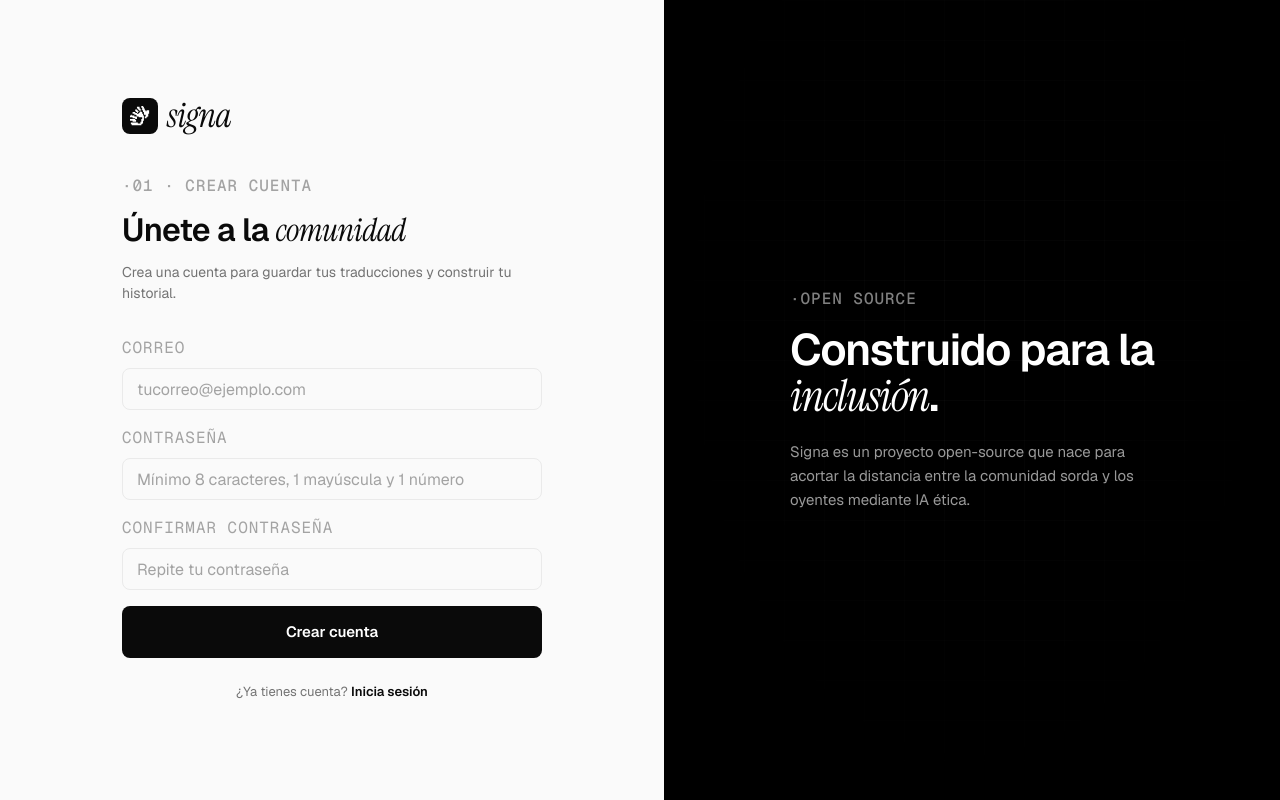
Test case: RegisterPage › shows error when passwords do not match
In the field labelled "Correo": (332, 389) [122,368,542,410], type "a@b.com"
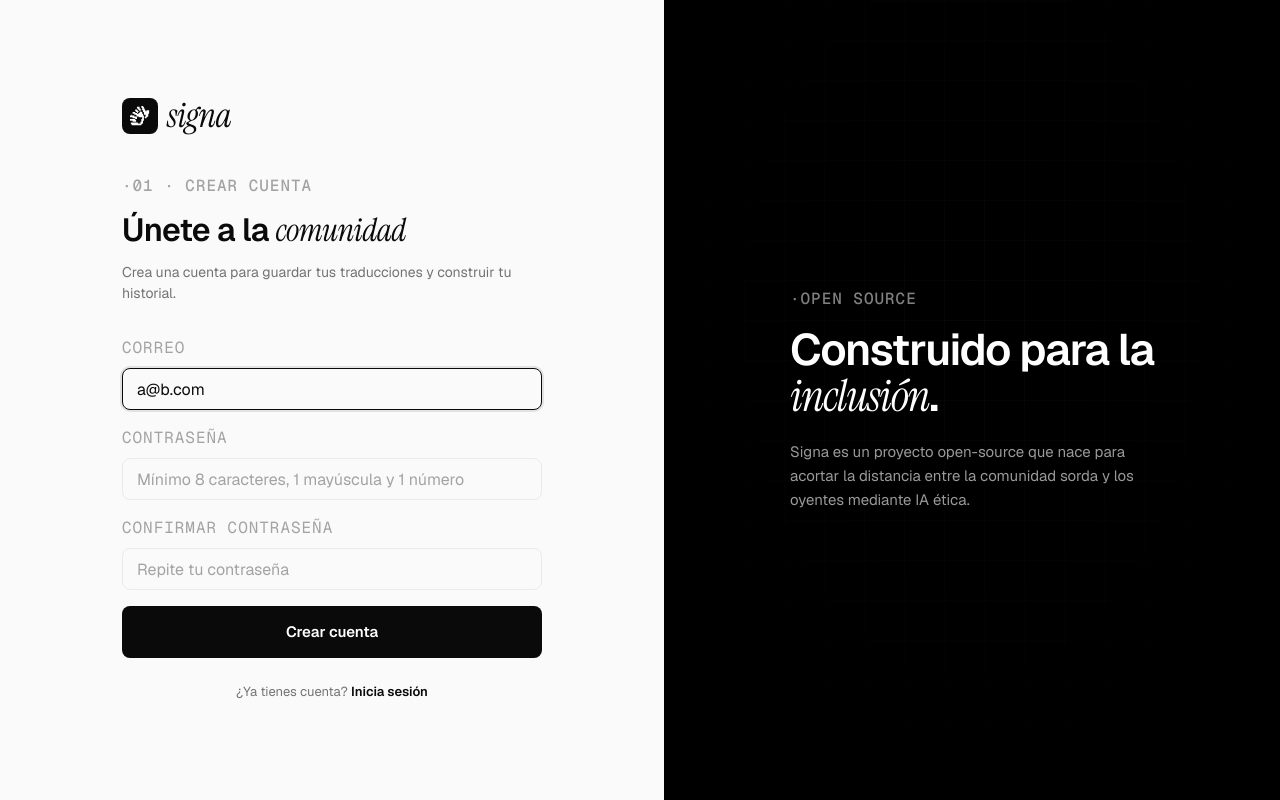
In the password field labelled "Contraseña": (332, 479) [122,458,542,500], type "Strong1!"
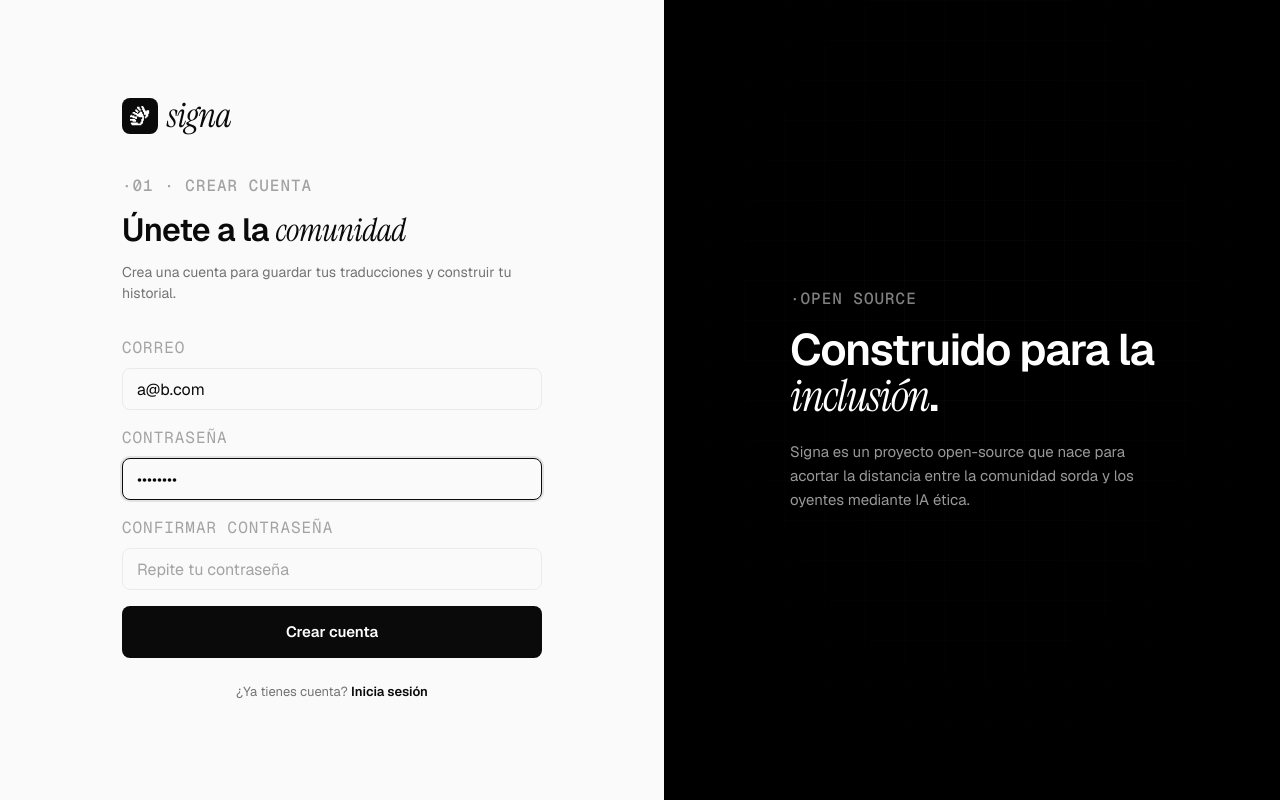
In the password field labelled "Confirmar contraseña": (332, 569) [122,548,542,590], type "Different2!"
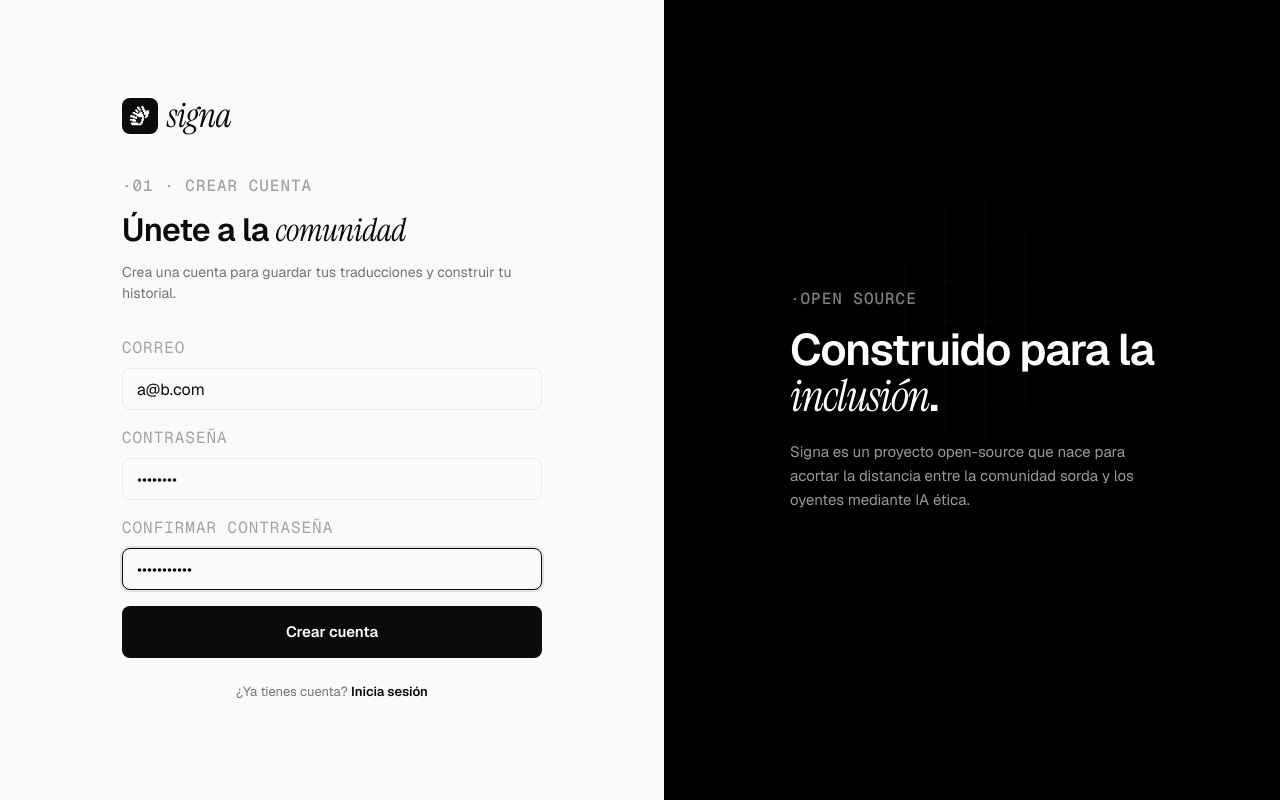
Click the button "Crear cuenta": (332, 632) [122,606,542,658]
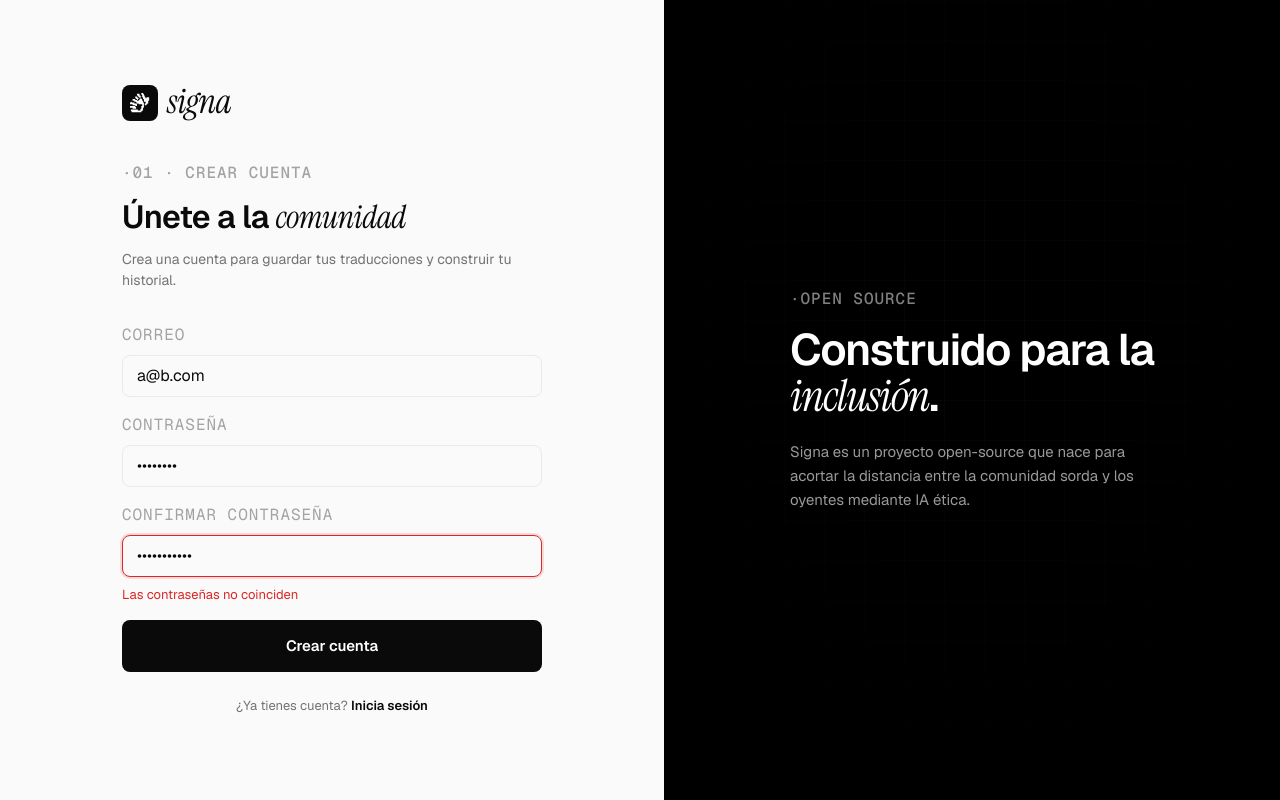
Now the text "Las contraseñas no coinciden" is shown, box [122,586,298,602]
